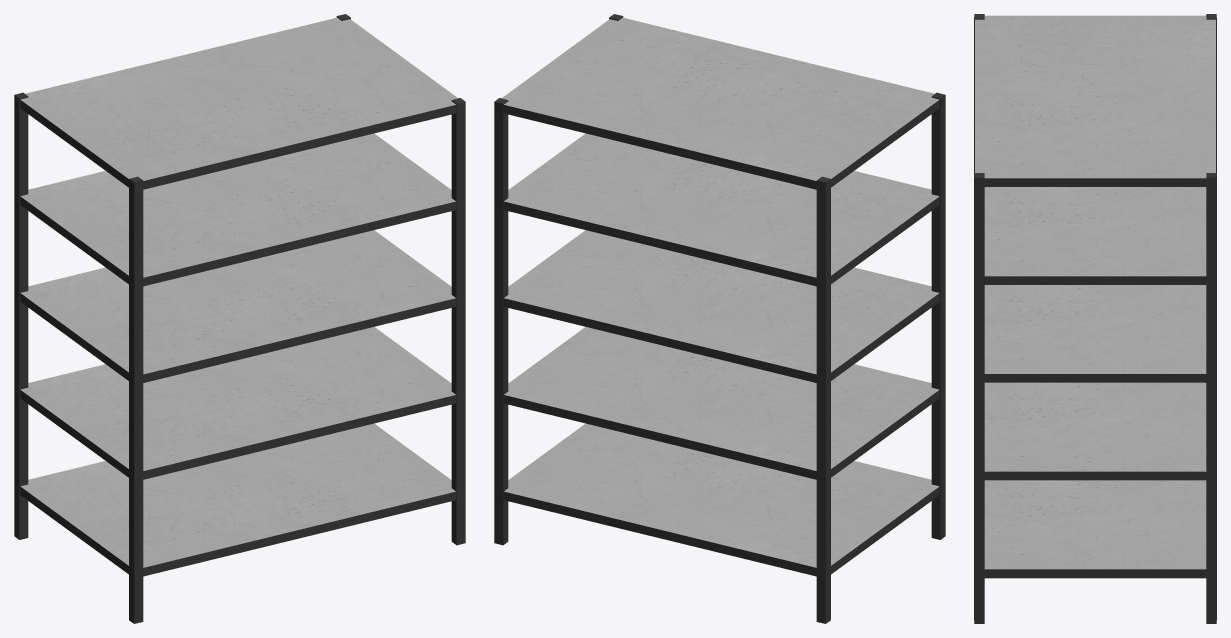
File: Rack_White.fbx
3 views of the same model, side by side, from view 1: azimuth 30°, elevation 25°; view 2: azimuth 150°, elevation 25°; view 3: azimuth 270°, elevation 25° (orthographic).
Visible parts, largest first — view 1: Rack_White; view 2: Rack_White; view 3: Rack_White.
Part boxes in pixels (left/top/right/bottom): Rack_White: left=14, top=14, right=465, bottom=623; Rack_White: left=494, top=14, right=945, bottom=623; Rack_White: left=974, top=14, right=1216, bottom=623.
Bounding box in the file's own units: 50.87 × 64.69 × 31.89.
Materials: 2 (1 with a texture image).
